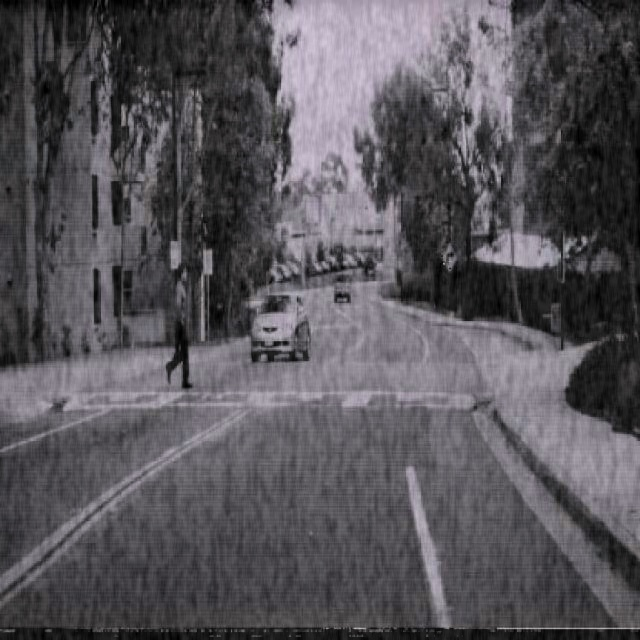turnRight: (442, 240, 458, 272)
